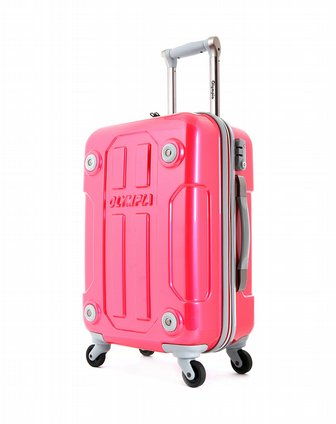suitcase: (73, 35, 256, 391)
